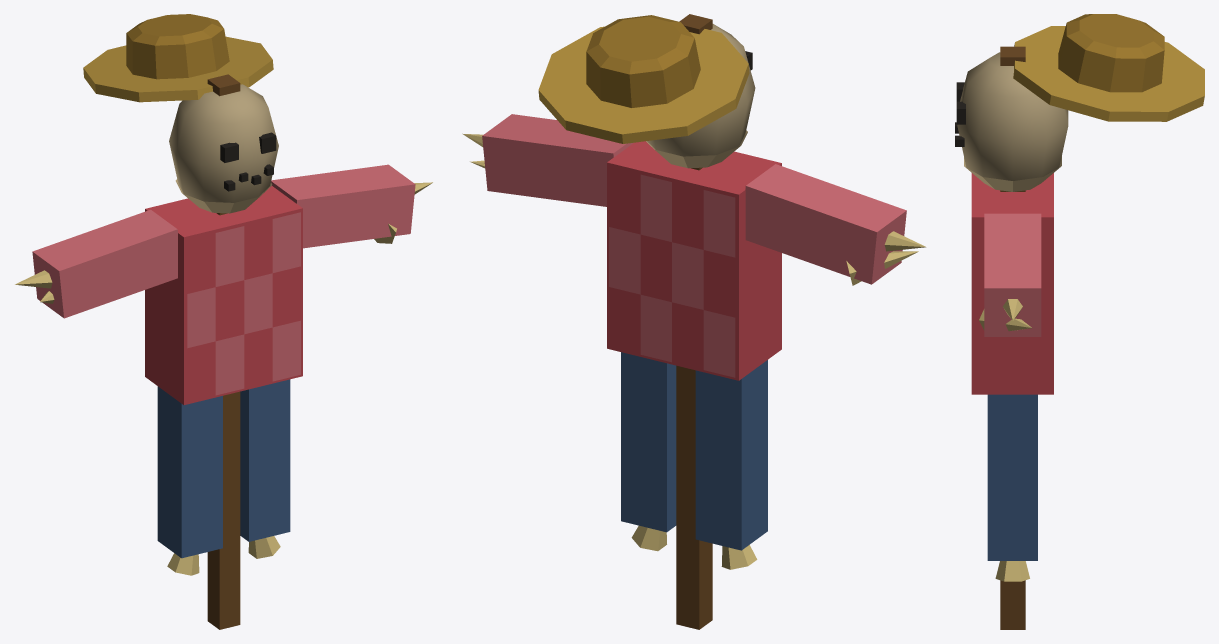
Rendered from scarecrow.glb.
The picture shows the model from 3 angles, left to right: view 1: azimuth 30°, elevation 25°; view 2: azimuth 150°, elevation 25°; view 3: azimuth 270°, elevation 25°; orthographic projection. The views are drawn at different scales.
Parts seen in each view (by area): view 1: Scarecrow; view 2: Scarecrow; view 3: Scarecrow.
Part boxes in pixels (bbox=[...]): Scarecrow: bbox=[15, 14, 432, 629]; Scarecrow: bbox=[462, 14, 926, 629]; Scarecrow: bbox=[955, 14, 1204, 629].
Bounding box in the file's own units: 1.62 × 2.09 × 0.791.
